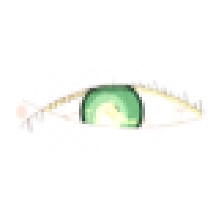corneal_ulcer: (78, 97, 137, 144)
